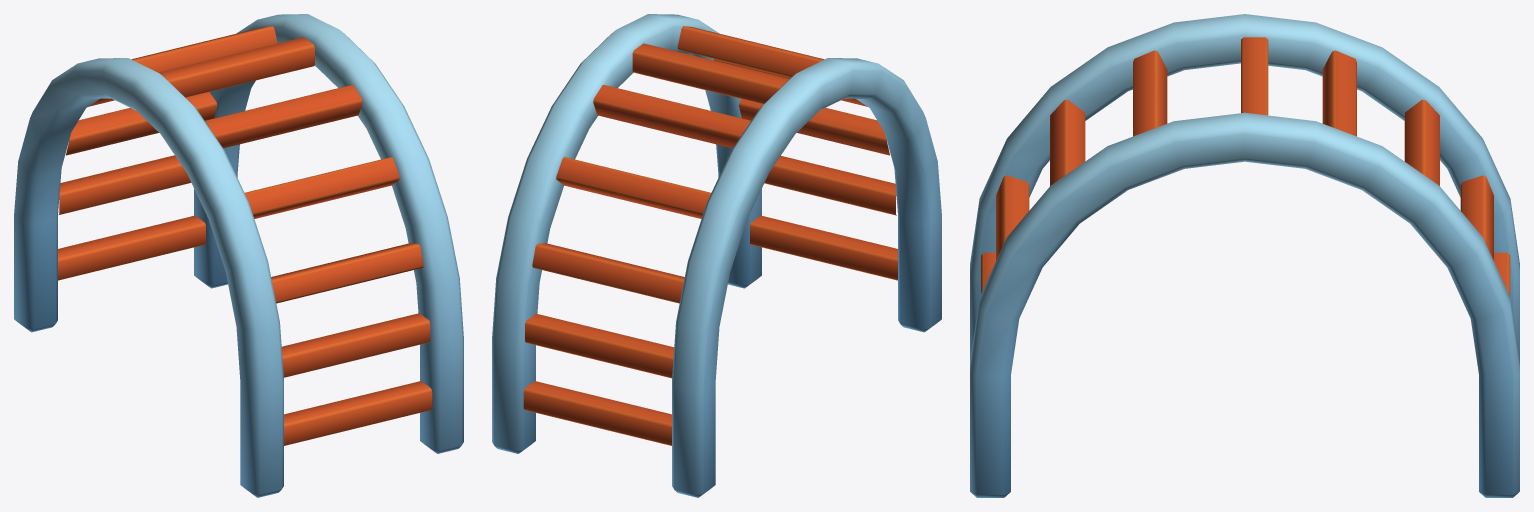
The model's file is monkeybar_B.glb.
3 renders of one model, left to right at view 1: azimuth 30°, elevation 25°; view 2: azimuth 150°, elevation 25°; view 3: azimuth 270°, elevation 25°, orthographic. The views are drawn at different scales.
Parts seen in each view (by area): view 1: monkeybar_B; view 2: monkeybar_B; view 3: monkeybar_B.
Boxes of the visible parts, x1,y1,x2,y2 form: monkeybar_B: (14, 14, 463, 497); monkeybar_B: (492, 14, 941, 497); monkeybar_B: (970, 14, 1519, 497).
Size of the model in its own units: 2 by 3 by 4.
1 material, 1 textured.
